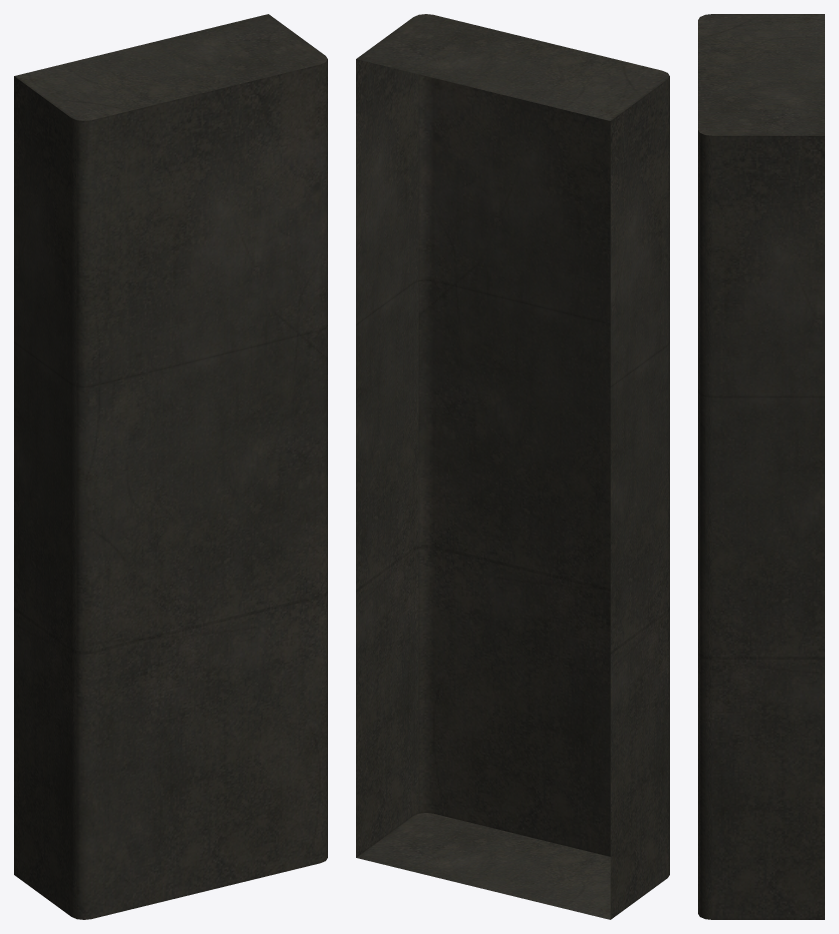
Rendered from wall_element_1.obj.
3 views of the same model, side by side, from view 1: azimuth 30°, elevation 25°; view 2: azimuth 150°, elevation 25°; view 3: azimuth 270°, elevation 25° (orthographic).
Visible parts, largest first — view 1: wall_element_1; view 2: wall_element_1; view 3: wall_element_1.
Boxes of the visible parts, x1,y1,x2,y2 form: wall_element_1: (14,14,327,919); wall_element_1: (356,14,669,919); wall_element_1: (698,14,824,919).
Bounding box in the file's own units: 1 × 3 × 0.44.
